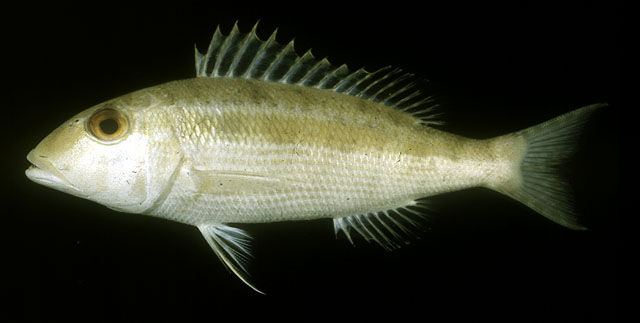fish: (25, 20, 604, 296)
